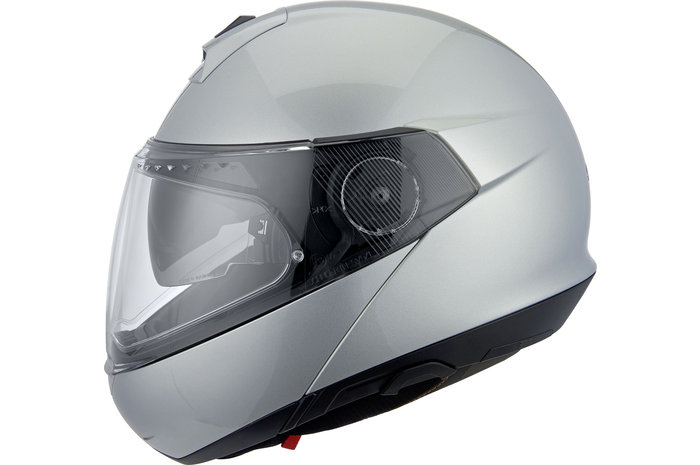with_helmet: (95, 1, 601, 464)
